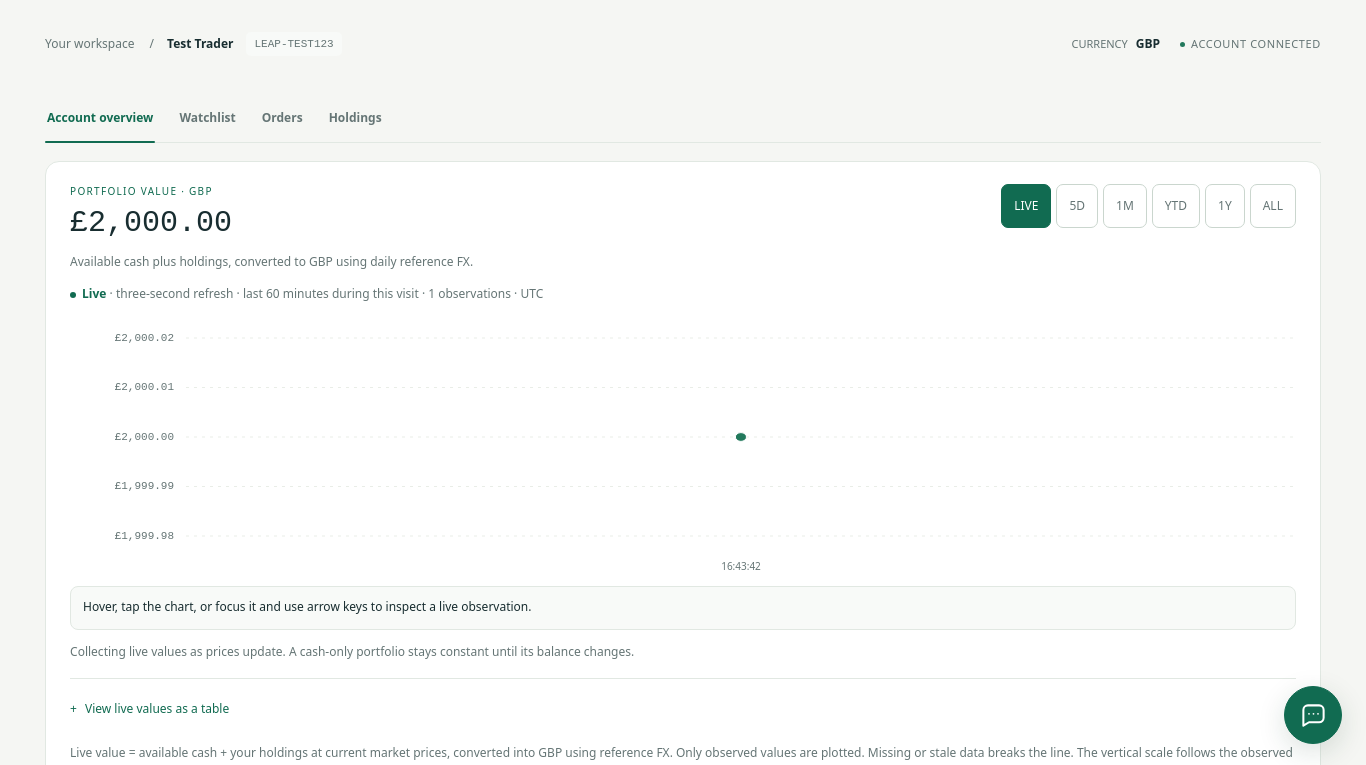
Test: DashboardComponent › loads and switches the portfolio graph across all five time ranges
Click the button "1M" at coordinates (1125, 206), box x1=1103 y1=184 x2=1147 y2=228
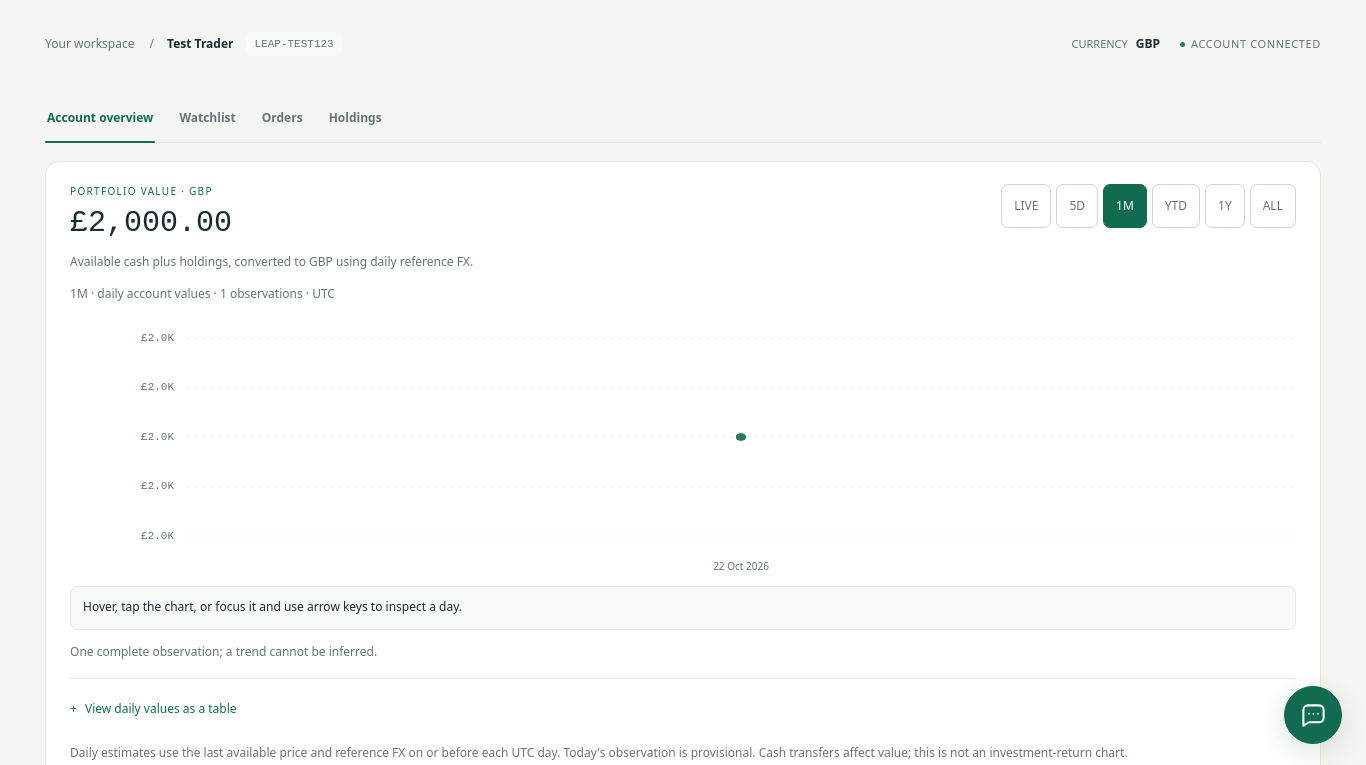
Expected: the text "1M · daily account values · 1 observations · UTC" is shown, x1=70 y1=285 x2=335 y2=302
Click the button "YTD" at coordinates (1176, 206), box x1=1152 y1=184 x2=1200 y2=228
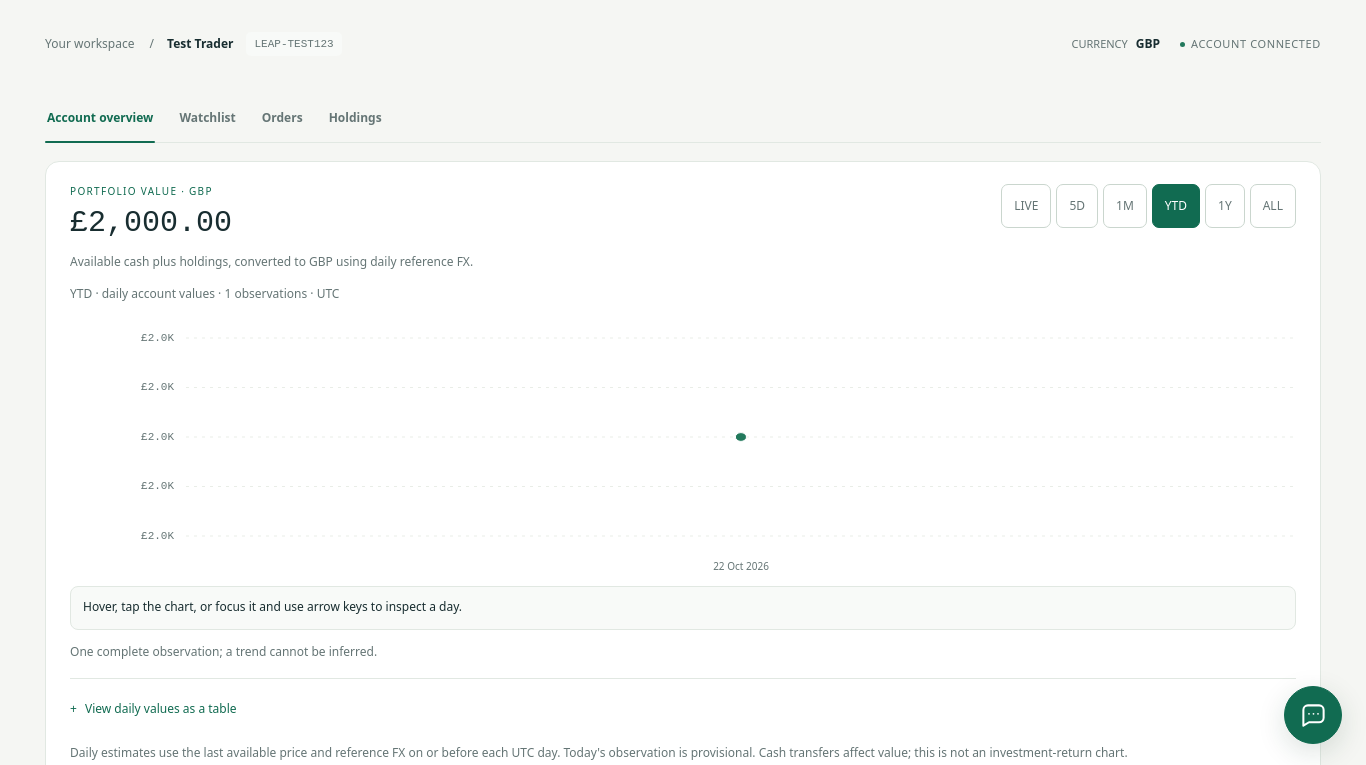
Expected: the text "YTD · daily account values · 1 observations · UTC" is shown, x1=70 y1=285 x2=340 y2=302
Click the button "1Y" at coordinates (1225, 206), box x1=1205 y1=184 x2=1245 y2=228
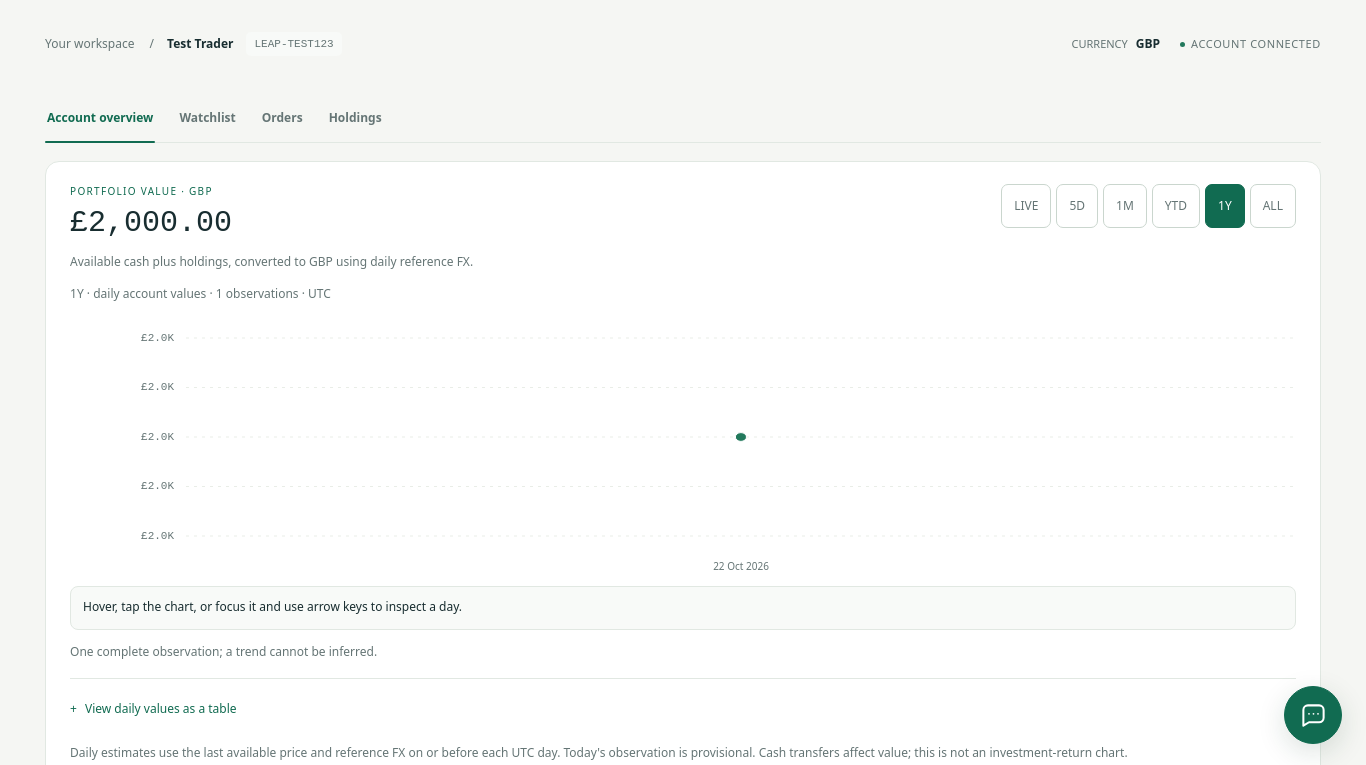
Expected: the text "1Y · daily account values · 1 observations · UTC" is shown, x1=70 y1=285 x2=331 y2=302
Click the button "ALL" at coordinates (1273, 206), box x1=1250 y1=184 x2=1296 y2=228
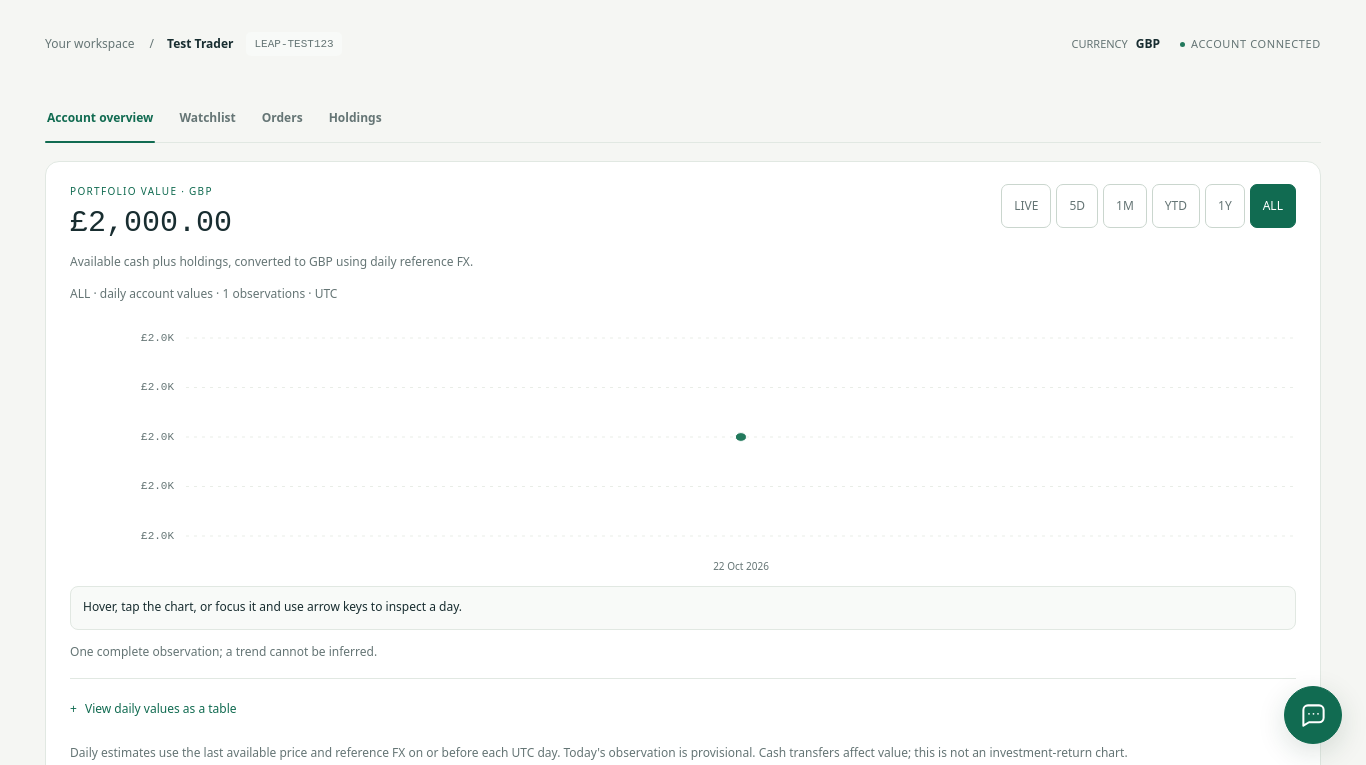
Expected: the text "ALL · daily account values · 1 observations · UTC" is shown, x1=70 y1=285 x2=338 y2=302
Click the button "5D" at coordinates (1077, 206), box x1=1056 y1=184 x2=1098 y2=228
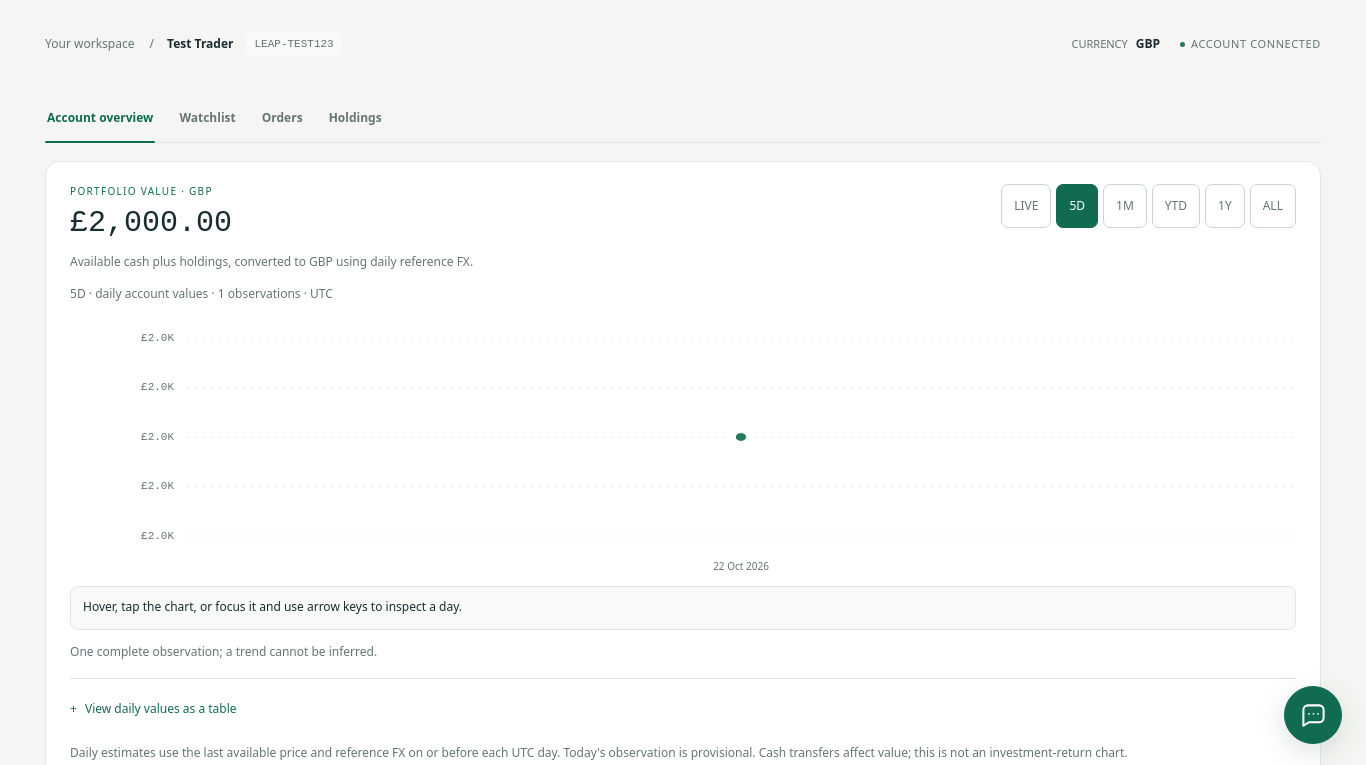
Expected: the text "5D · daily account values · 1 observations · UTC" is shown, x1=70 y1=285 x2=333 y2=302
